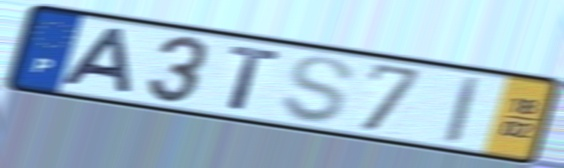3: (142, 34, 210, 106)
7: (364, 60, 426, 136)
A: (57, 25, 135, 97)
I: (441, 73, 484, 148)
S: (278, 54, 357, 126)
T: (226, 43, 285, 114)
